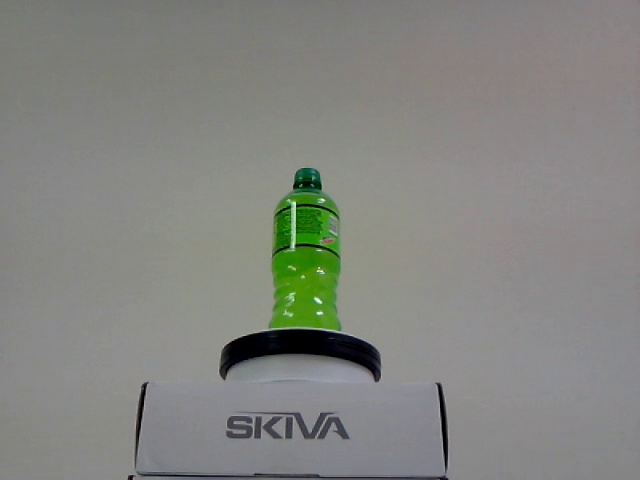botolplastik: (272, 167, 340, 331)
